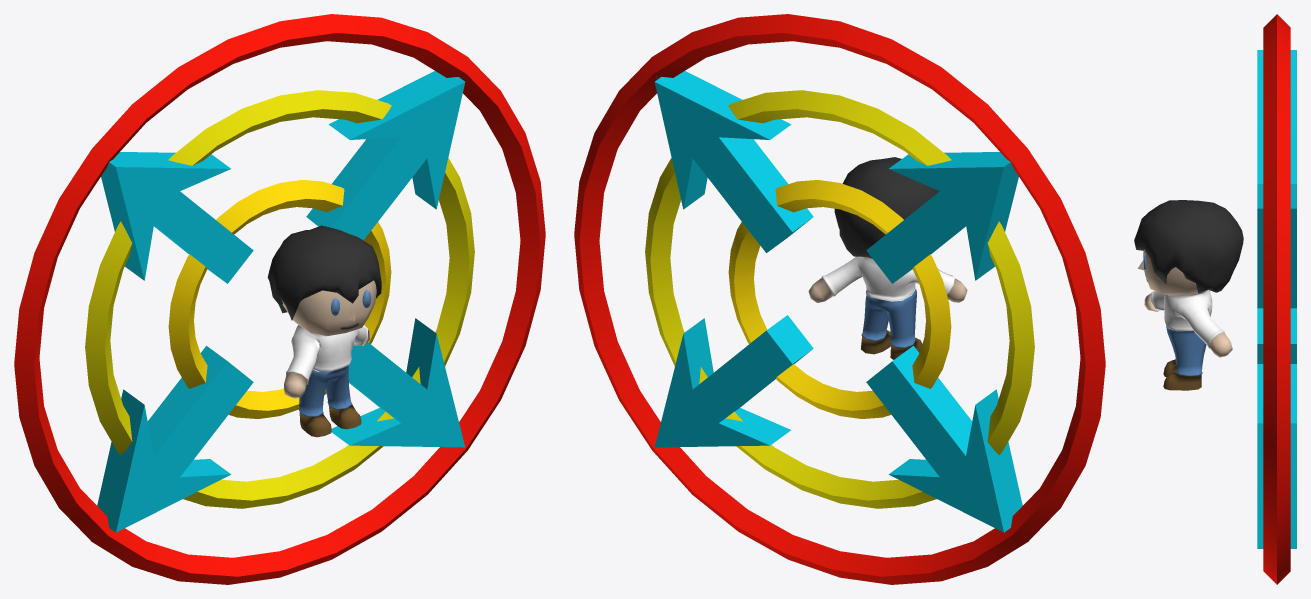
The model's file is RebotePowerUp.fbx.
3 renders of one model, left to right at view 1: azimuth 30°, elevation 25°; view 2: azimuth 150°, elevation 25°; view 3: azimuth 270°, elevation 25°, orthographic. The views are drawn at different scales.
Visible parts, largest first — view 1: Plane.001, Cube.001, CharType1, hairbase; view 2: Plane.001, Cube.001, CharType1, hairbase; view 3: Plane.001, hairbase, Cube.001, CharType1.
Boxes of the visible parts, box(x1,y1,x2,y2) form: Plane.001: box(14, 14, 545, 584); Cube.001: box(97, 71, 465, 532); CharType1: box(281, 280, 376, 437); hairbase: box(267, 225, 381, 320); Plane.001: box(574, 14, 1105, 584); Cube.001: box(654, 71, 1022, 532); CharType1: box(808, 256, 967, 359); hairbase: box(834, 157, 939, 258); Plane.001: box(1263, 14, 1290, 584); hairbase: box(1134, 200, 1243, 293); Cube.001: box(1257, 50, 1296, 548); CharType1: box(1143, 249, 1232, 390).
Bounding box in the file's own units: 299 × 299 × 85.07.
